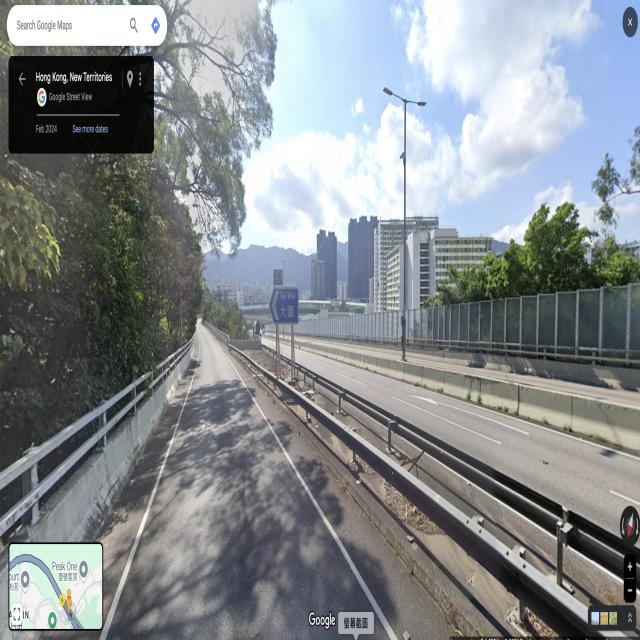Direction-Sign: (269, 288, 299, 324)
